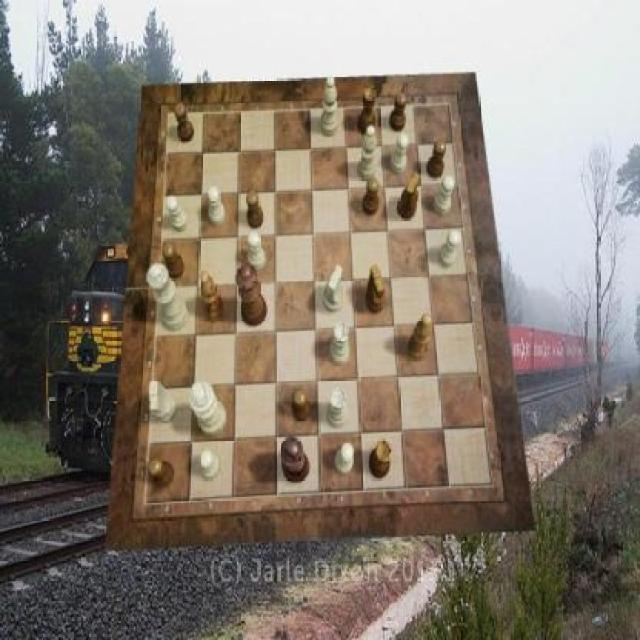bishop: (200, 270, 225, 322), (408, 314, 432, 360)
black-bishop: (280, 437, 310, 482)
black-king: (397, 172, 420, 220), (366, 266, 386, 316)
black-knight: (163, 242, 186, 279), (148, 457, 174, 488), (174, 103, 194, 143), (428, 140, 448, 178), (389, 92, 407, 132), (292, 388, 312, 422), (363, 177, 380, 215), (248, 191, 264, 229)
black-pawn: (237, 265, 268, 327)
black-queen: (359, 84, 376, 136), (370, 440, 392, 480)
black-rook: (318, 75, 338, 137), (357, 124, 377, 180)
white-bishop: (189, 382, 227, 438)
white-king: (149, 380, 177, 422), (323, 266, 343, 314)
white-knight: (438, 229, 462, 268), (166, 196, 189, 232), (434, 177, 454, 215), (198, 449, 220, 480), (391, 134, 408, 174), (248, 231, 265, 269), (208, 188, 225, 226), (336, 441, 354, 474)
white-pawn: (147, 263, 190, 331)
white-queen: (326, 388, 349, 428), (331, 322, 351, 366)
